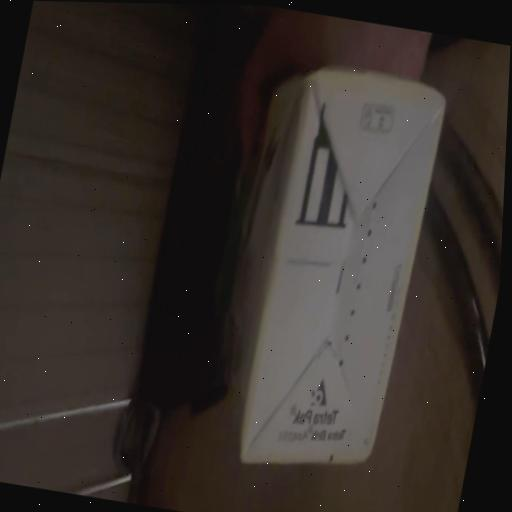ly_giay: (217, 67, 445, 463)
